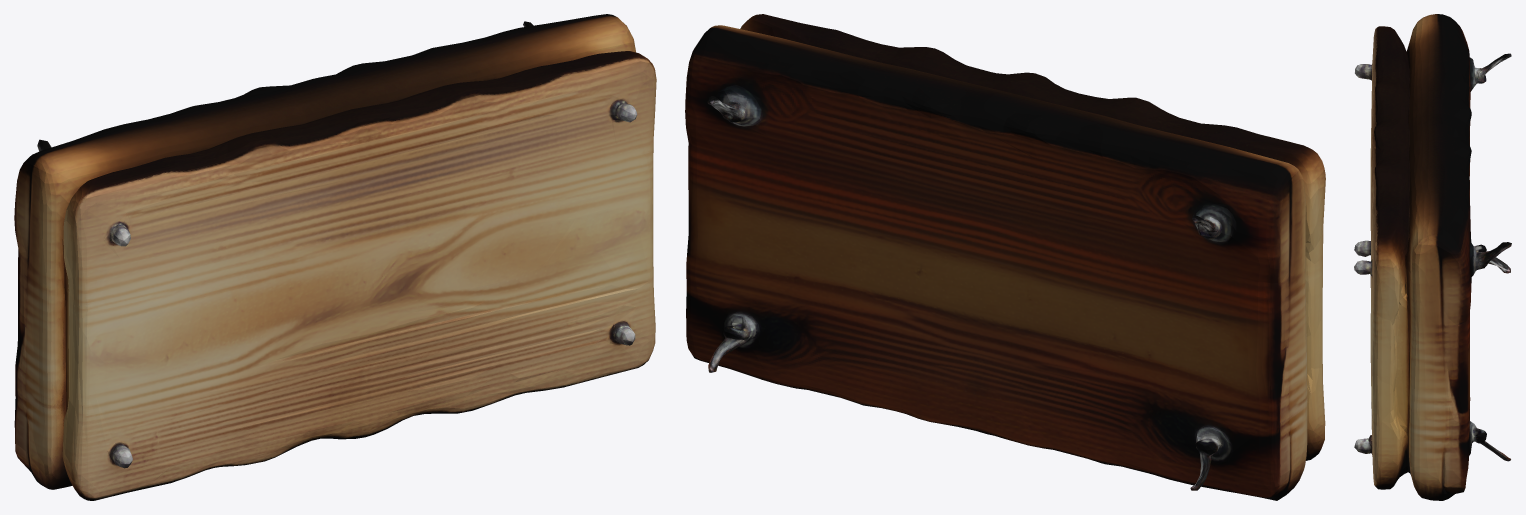
The model's file is wooden-clipboard-rustic.jpeg.glb.
3 views of the same model, side by side, from view 1: azimuth 30°, elevation 25°; view 2: azimuth 150°, elevation 25°; view 3: azimuth 270°, elevation 25° (orthographic). The views are drawn at different scales.
Parts seen in each view (by area): view 1: world; view 2: world; view 3: world.
Boxes of the visible parts, x1,y1,x2,y2 form: world: (14,14,656,500); world: (685,14,1325,500); world: (1354,14,1511,500).
Bounding box in the file's own units: 0.9979 × 0.5396 × 0.287.
1 material, 1 textured.
